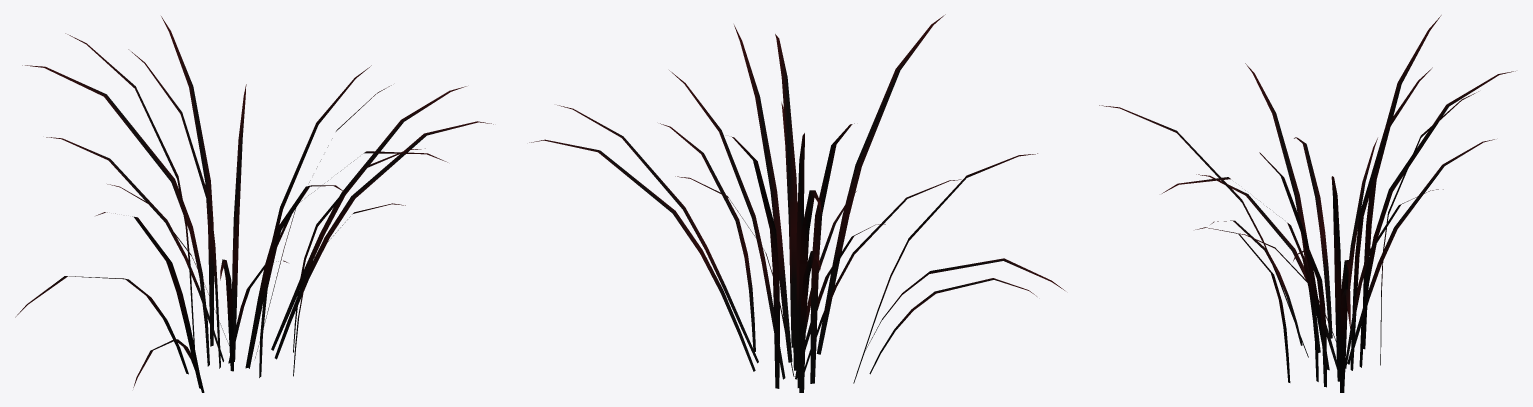
Rendered from Grass02B.fbx.
3 views of the same model, side by side, from view 1: azimuth 30°, elevation 25°; view 2: azimuth 150°, elevation 25°; view 3: azimuth 270°, elevation 25° (orthographic). The views are drawn at different scales.
Visible parts, largest first — view 1: Grass02B; view 2: Grass02B; view 3: Grass02B.
Part boxes in pixels (left/top/right/bottom): Grass02B: left=15, top=16, right=493, bottom=392; Grass02B: left=529, top=14, right=1064, bottom=392; Grass02B: left=1099, top=15, right=1515, bottom=392.
Size of the model in its own units: 2.11 by 1.29 by 1.6.
